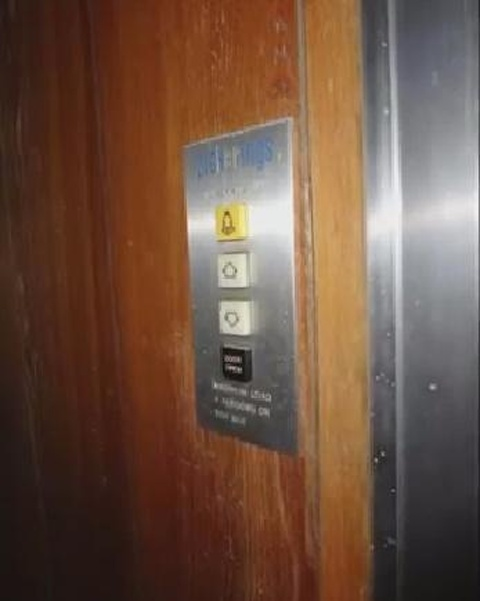alarm: (215, 201, 249, 242)
blur: (219, 343, 254, 383)
down: (216, 295, 258, 337)
up: (215, 251, 251, 287)
